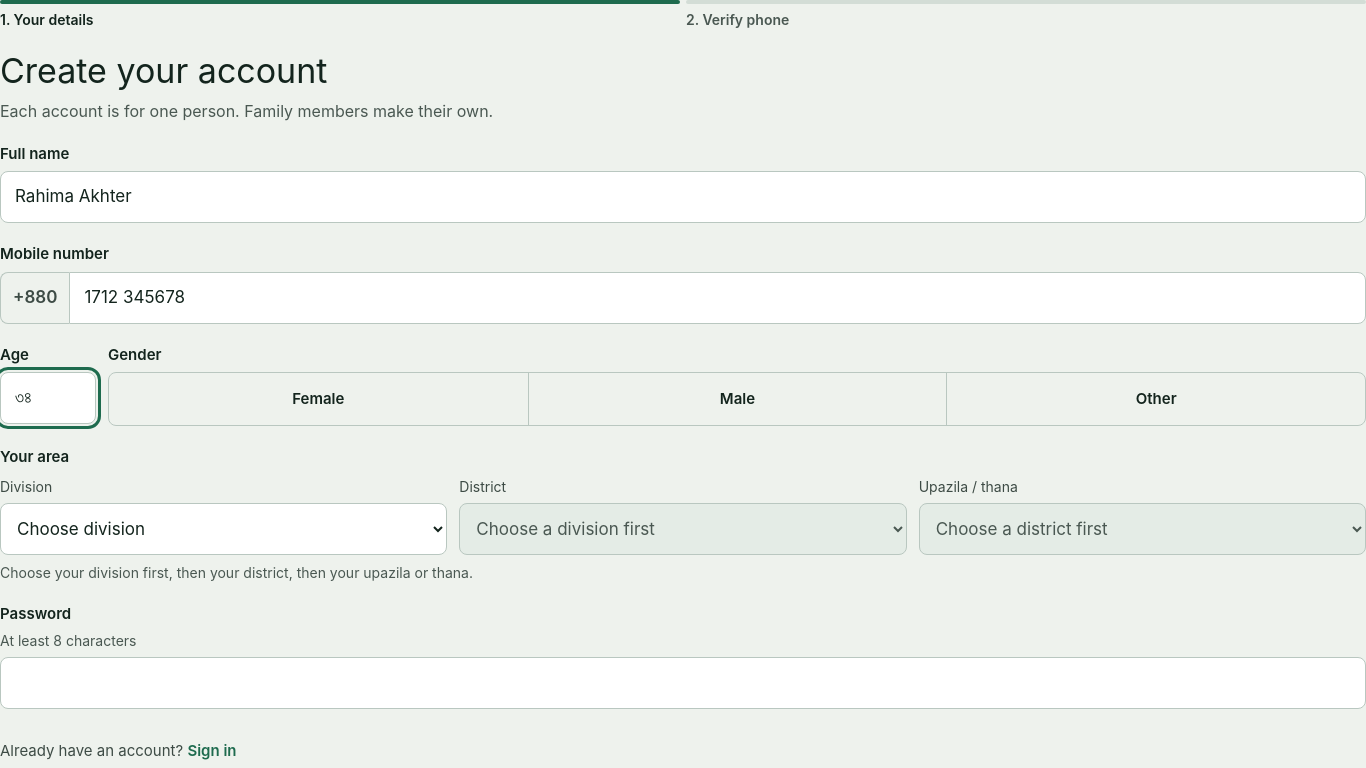
it: sign-up › sends the details and asks for the code that was texted
Earlier steps of the test are not shown.
Click the radio button labelled "Female".
click(318, 398)  # box [292, 389, 344, 408]
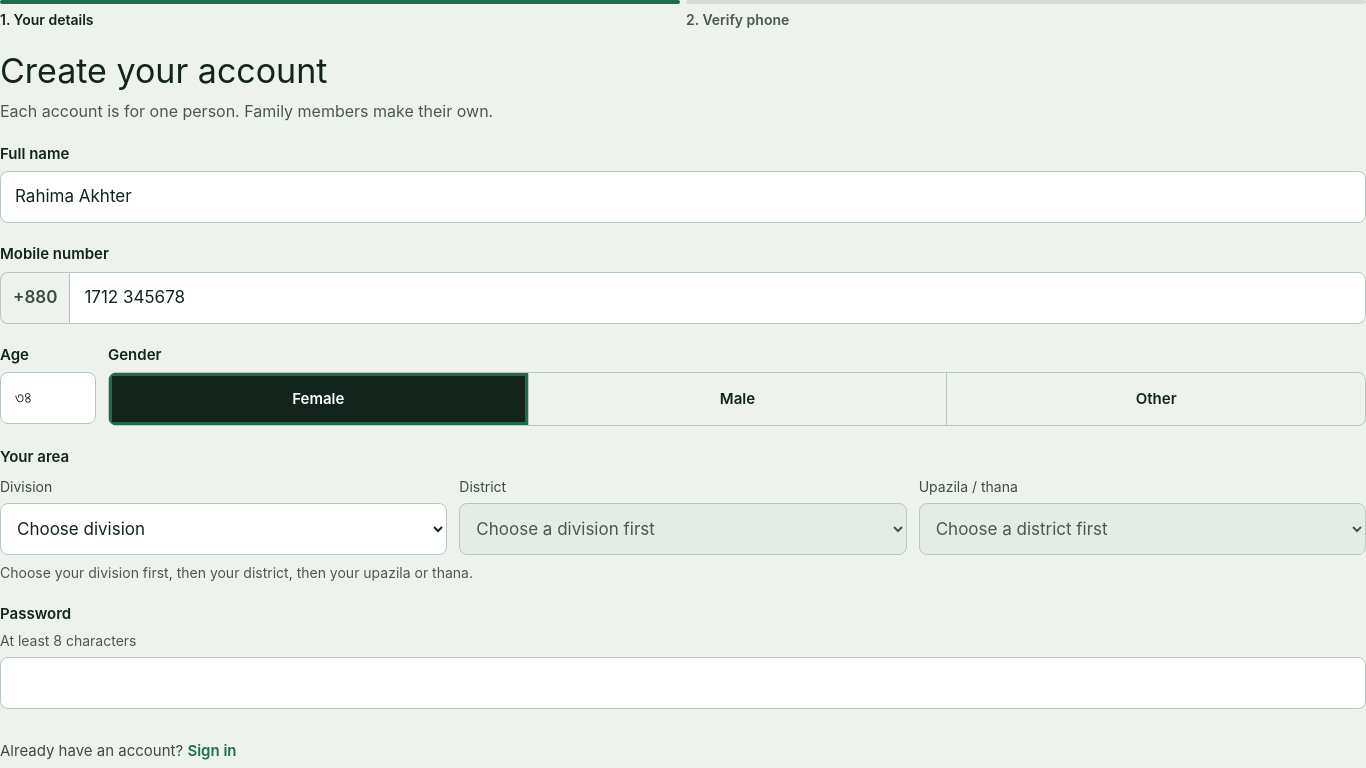
Select "Dhaka" in the dropdown labelled "Division" at (224, 528), box [0, 502, 447, 554]
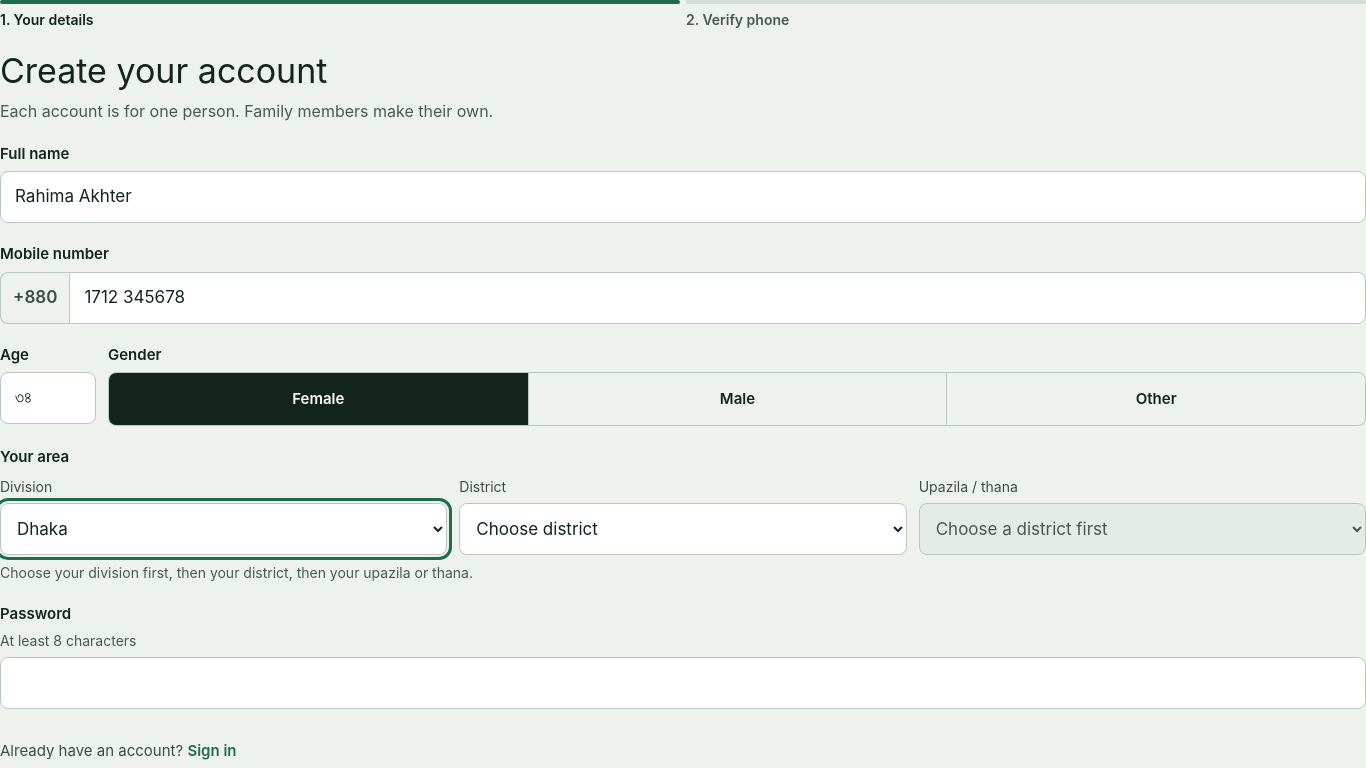
Result: the dropdown labelled "District" is enabled
Select "Gazipur" in the dropdown labelled "District" at (683, 528), box [459, 502, 907, 554]
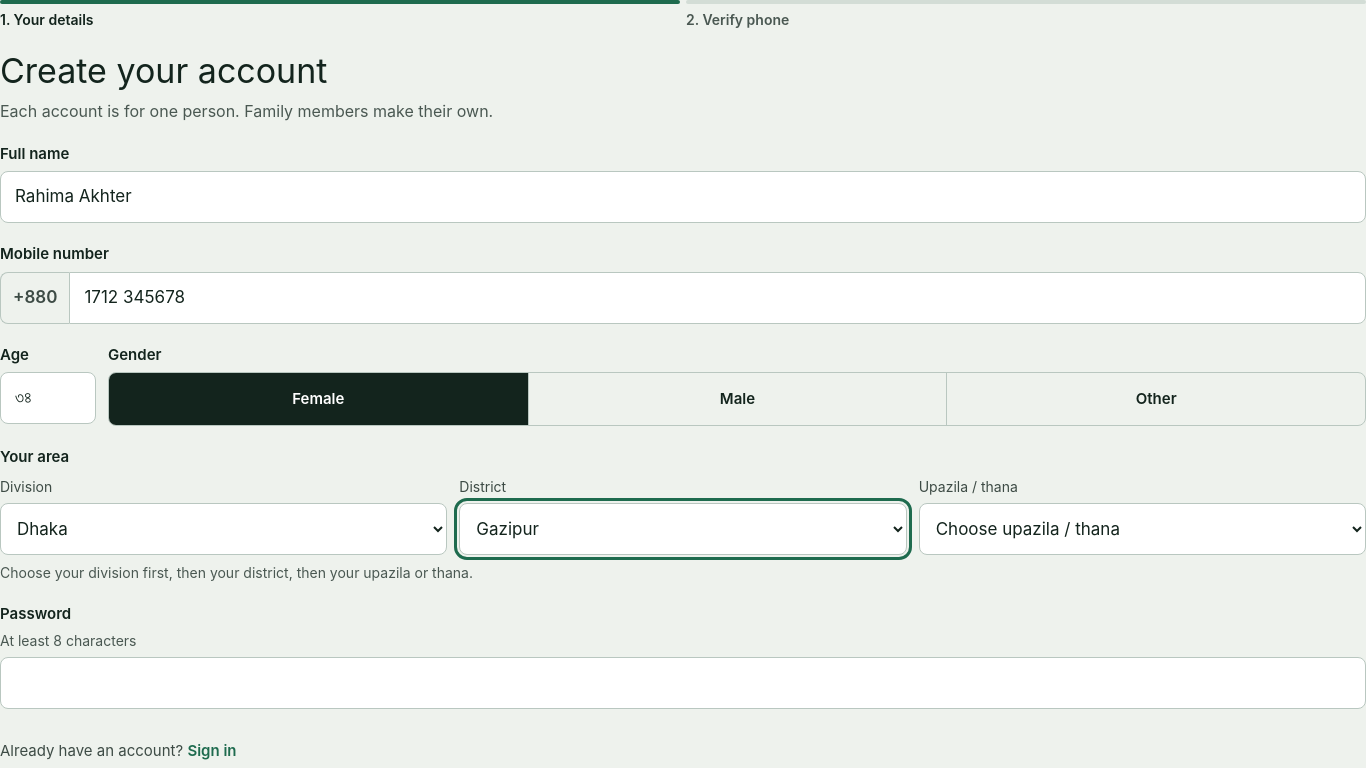
Result: the dropdown labelled "Upazila / thana" is enabled
Select "Kapasia" in the dropdown labelled "Upazila / thana" at (1142, 528), box [919, 502, 1365, 554]
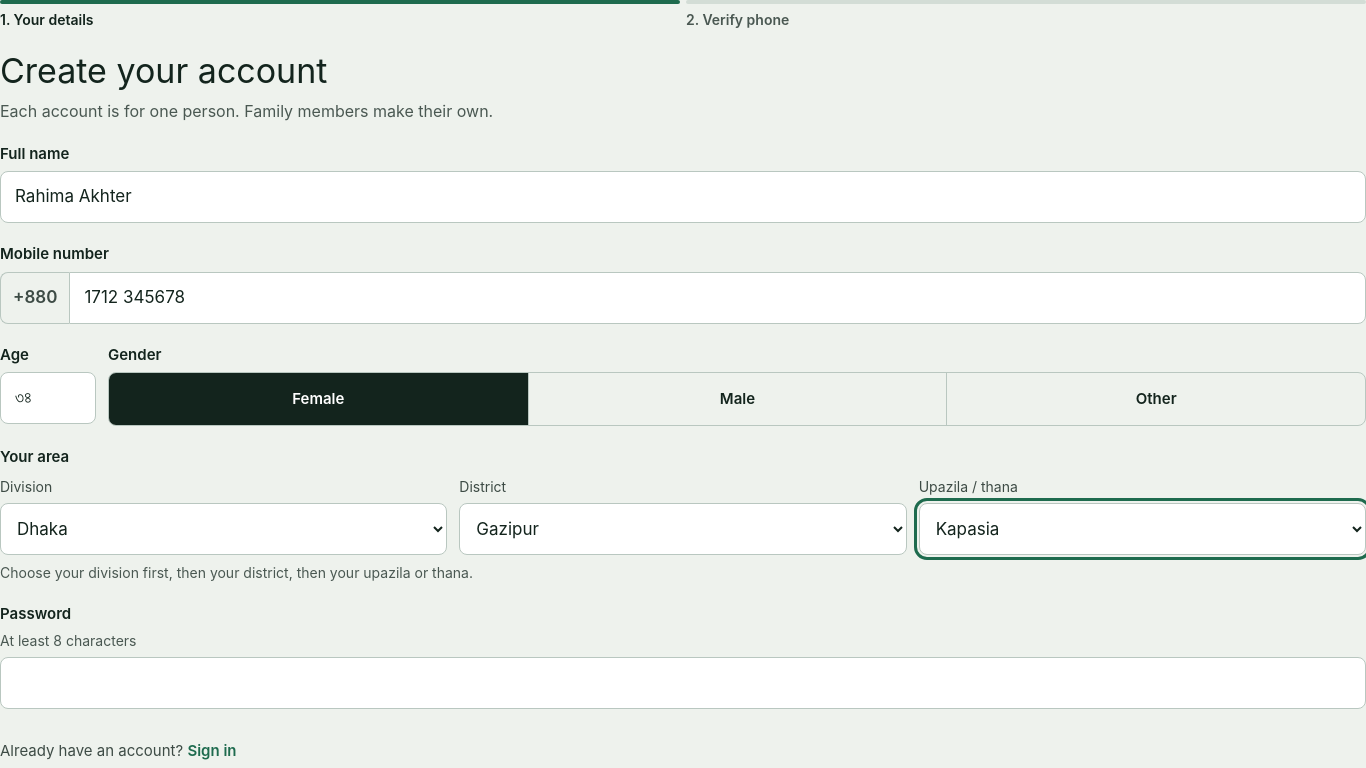
Type "river-lamp-42-orchid" into the password field labelled "Password".
click(683, 683); type("river-lamp-42-orchid")  # box [0, 657, 1365, 709]
(page scrolled)
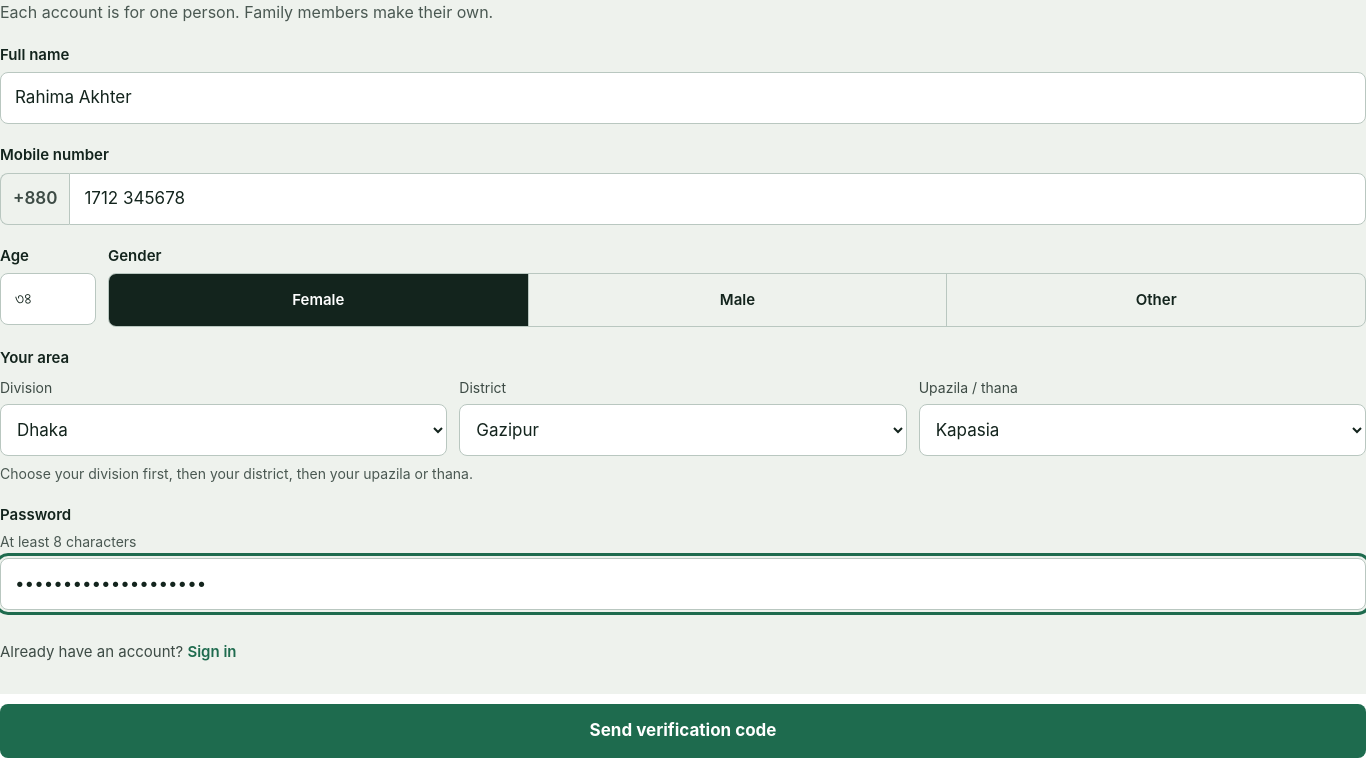
Click the button "Send verification code".
click(683, 731)  # box [0, 704, 1365, 758]
(page scrolled)
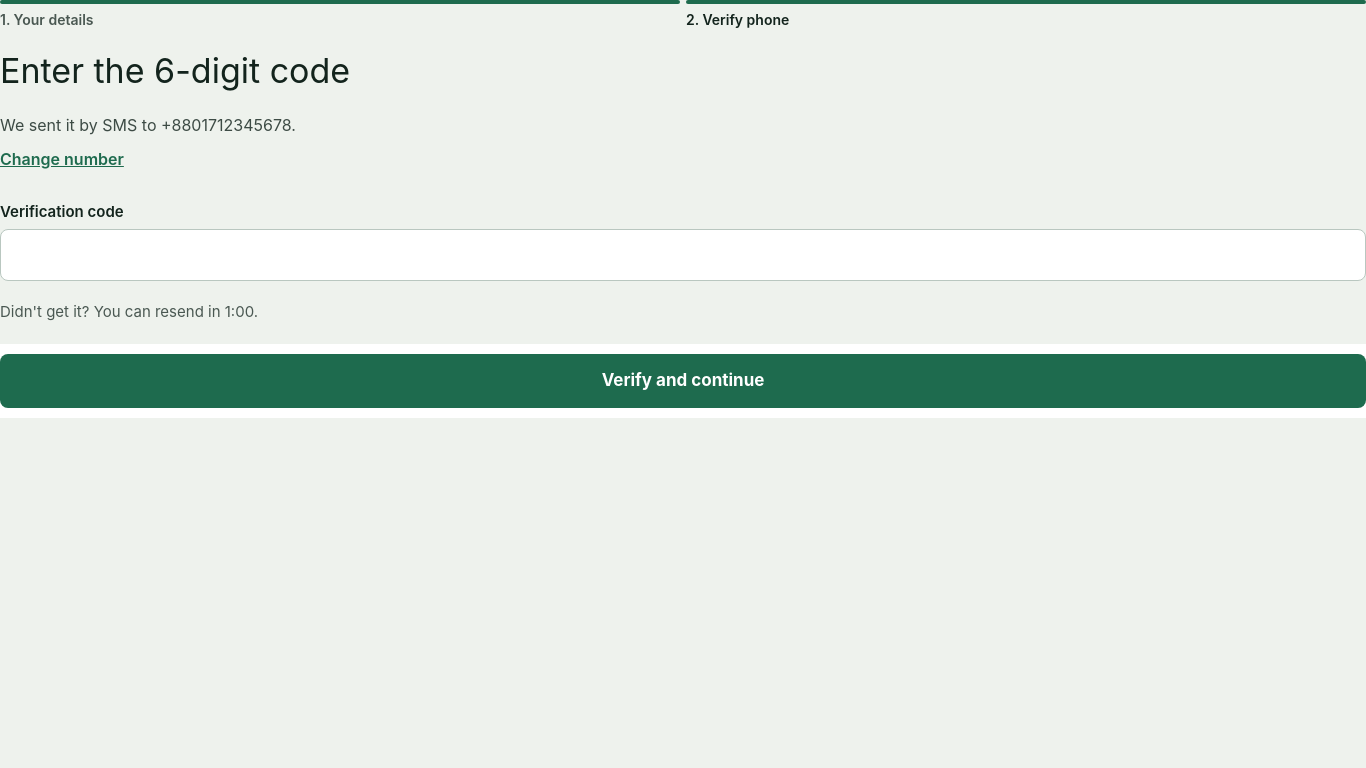
Result: the heading "Enter the 6-digit code" is shown at [0, 50, 350, 91]
Result: the text "We sent it by SMS to +8801712345678." is shown at [0, 112, 296, 136]
